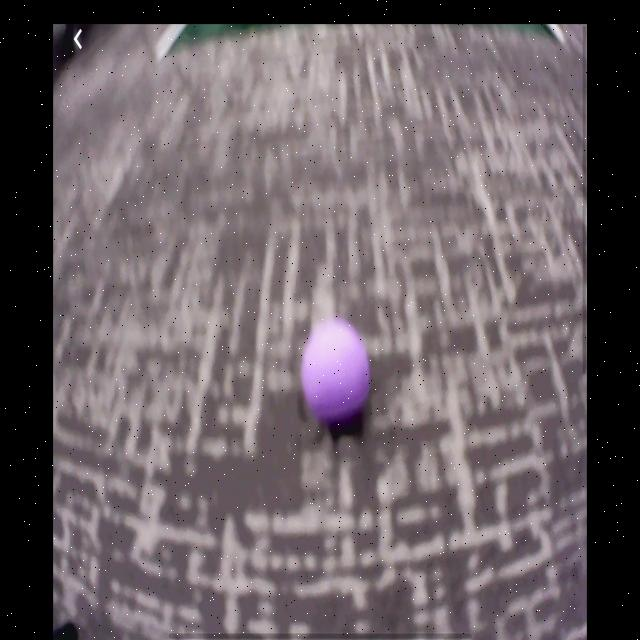ball: (302, 322, 369, 423)
